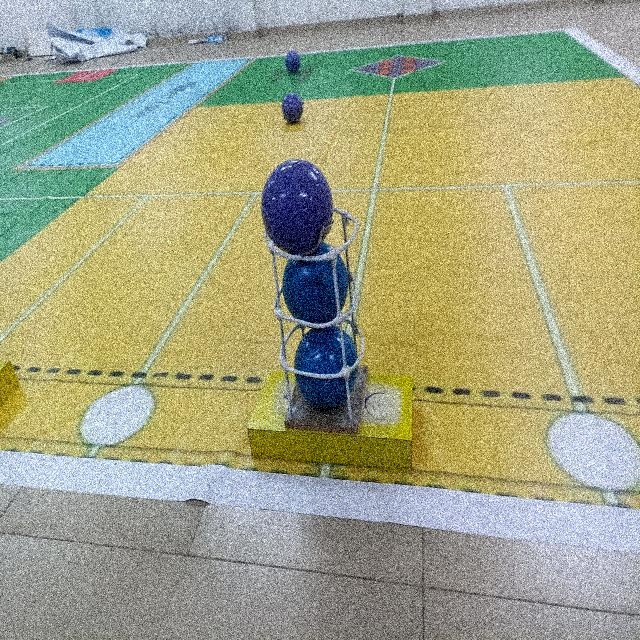blue_ball: (279, 238, 351, 336), (292, 324, 360, 410)
purple_ball: (257, 153, 336, 252), (282, 92, 308, 125), (284, 48, 301, 75)
silo: (263, 200, 370, 427)
